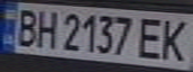1: (78, 10, 100, 53)
2: (57, 10, 81, 52)
3: (97, 11, 118, 55)
7: (112, 12, 139, 57)
B: (9, 6, 42, 47)
E: (136, 15, 169, 61)
H: (33, 7, 60, 50)
K: (157, 16, 193, 63)
